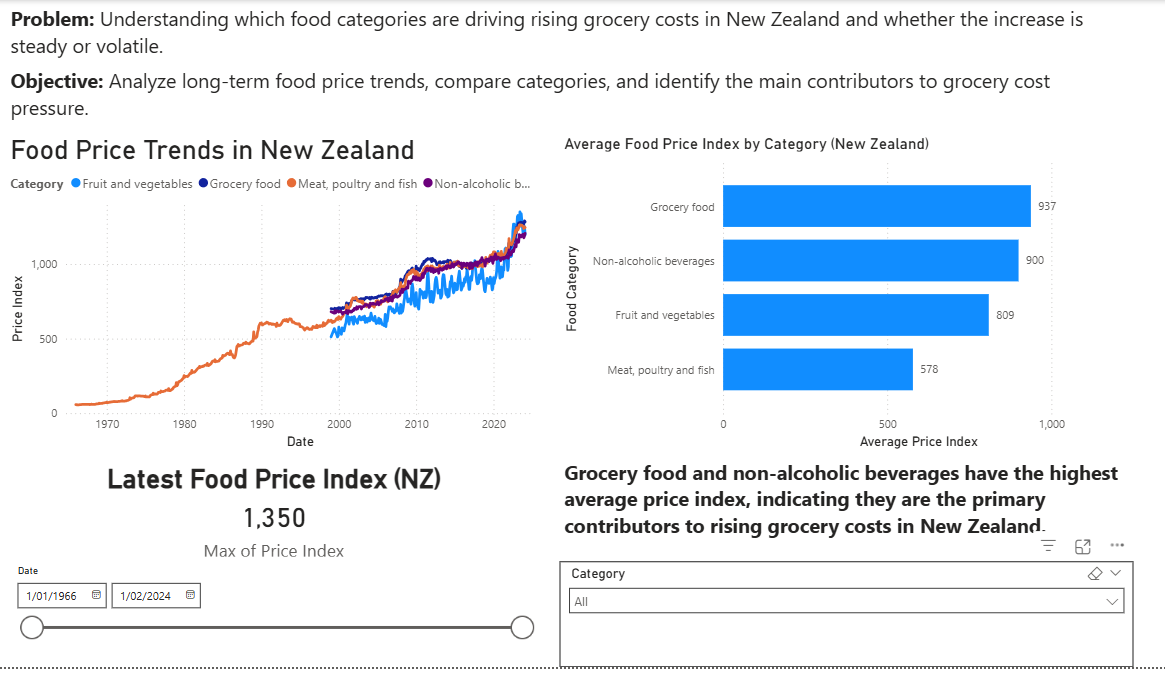

What the dashboard file says about the page in this screenshot:
{"tool":"powerbi","page":{"name":"Page 1","canvas":[1280,720],"ordinal":0},"visuals":[{"type":"lineChart","title":"Food Price Trends in New Zealand","fields":{"Category":["category_grouped.Date"],"Y":["Sum(category_grouped.Data_value)"],"Series":["category_grouped.Series_title_1"]},"box":[25.6,144.4,578.8,345.4],"z":0},{"type":"clusteredBarChart","title":"Average Food Price Index by Category (New Zealand)","fields":{"Category":["category_grouped.Series_title_1"],"Y":["Avg(category_grouped.Data_value)"]},"box":[623.3,144.4,619.2,345.4],"z":1000},{"type":"textbox","box":[623.3,489.7,619.2,114.7],"z":2000},{"type":"card","title":"Latest Food Price Index (NZ)","fields":{"Values":["Max(category_grouped.Data_value)"]},"box":[25.6,499.2,578.8,106.6],"z":3000},{"type":"slicer","fields":{"Values":["category_grouped.Series_title_1"]},"box":[623.3,605.7,619.2,114.7],"z":4000},{"type":"slicer","fields":{"Values":["category_grouped.Date"]},"box":[25.6,604.4,578.8,114.7],"z":5000},{"type":"textbox","box":[25.6,0,1216.9,67.5],"z":5001},{"type":"textbox","box":[25.6,67.5,1216.9,76.9],"z":5002}]}

Visuals, with their boxes on the page's 1280x720 design canvas (x1, y1, x2, y2). These are canvas units, not pixel positions in the 1165x684 screenshot, which may show the page scaled, cropped or inside an application window:
"Food Price Trends in New Zealand" lineChart: <bbox>26, 144, 604, 490</bbox>
"Average Food Price Index by Category (New Zealand)" clusteredBarChart: <bbox>623, 144, 1242, 490</bbox>
textbox: <bbox>623, 490, 1242, 604</bbox>
"Latest Food Price Index (NZ)" card: <bbox>26, 499, 604, 606</bbox>
slicer - category_grouped.Series_title_1: <bbox>623, 606, 1242, 720</bbox>
slicer - category_grouped.Date: <bbox>26, 604, 604, 719</bbox>
textbox: <bbox>26, 0, 1242, 68</bbox>
textbox: <bbox>26, 68, 1242, 144</bbox>
